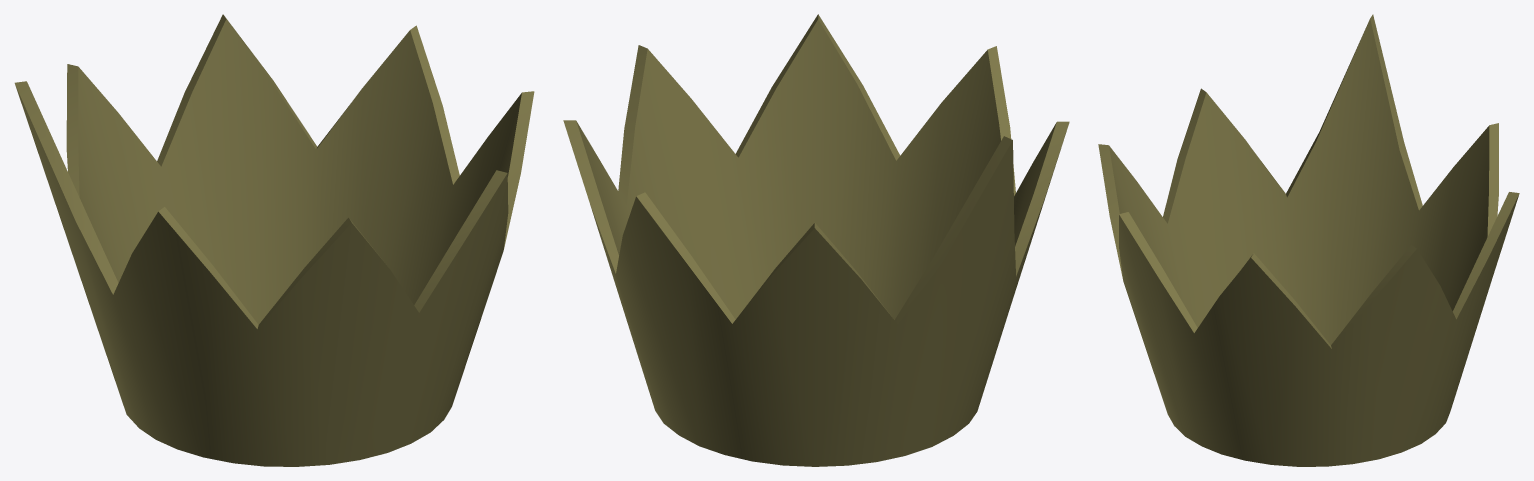
The model's file is Crown.fbx.
3 renders of one model, left to right at view 1: azimuth 30°, elevation 25°; view 2: azimuth 150°, elevation 25°; view 3: azimuth 270°, elevation 25°, orthographic. The views are drawn at different scales.
Visible parts, largest first — view 1: Crown; view 2: Crown; view 3: Crown.
Boxes of the visible parts, bbox=[...] form: Crown: bbox=[14, 14, 534, 466]; Crown: bbox=[563, 14, 1069, 466]; Crown: bbox=[1098, 14, 1519, 466].
Bounding box in the file's own units: 188 × 138 × 179.
